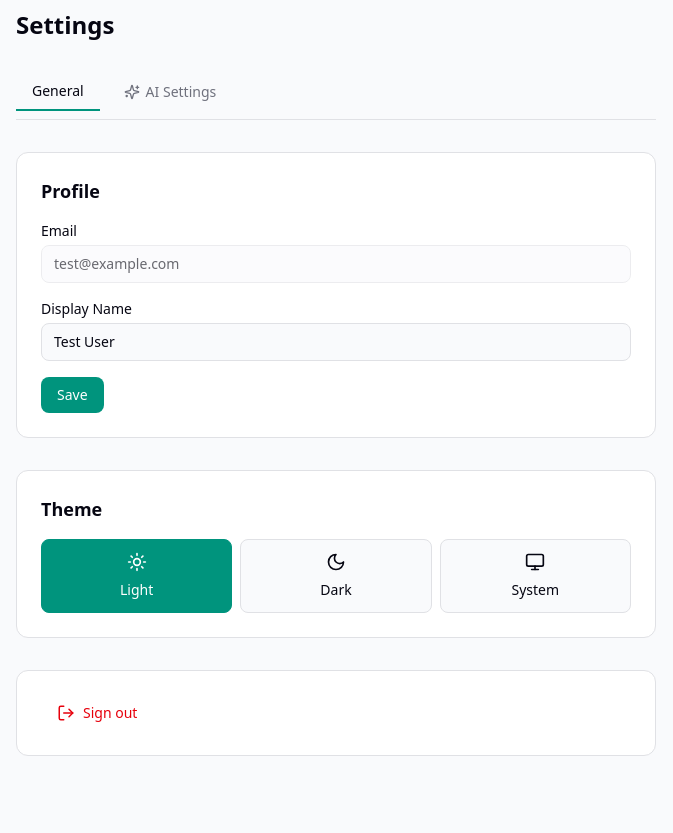
Test: SettingsPage › switches to AI settings tab
Click the button "AI Settings". click: (170, 92)
box: [108,73,232,111]
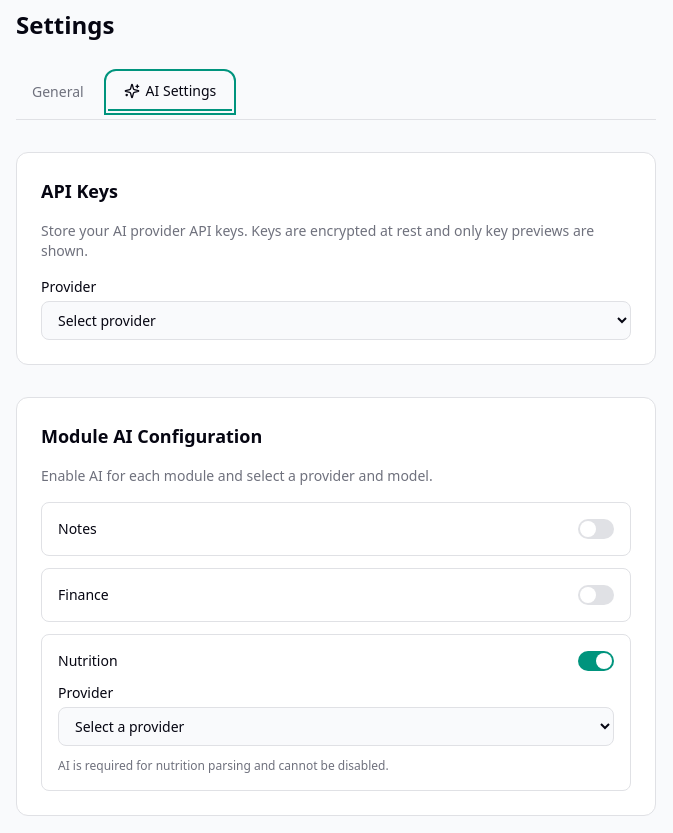
Check: the heading "API Keys" is shown, box [41,179,118,203]
Check: the heading "Module AI Configuration" is shown, box [41,424,262,448]
